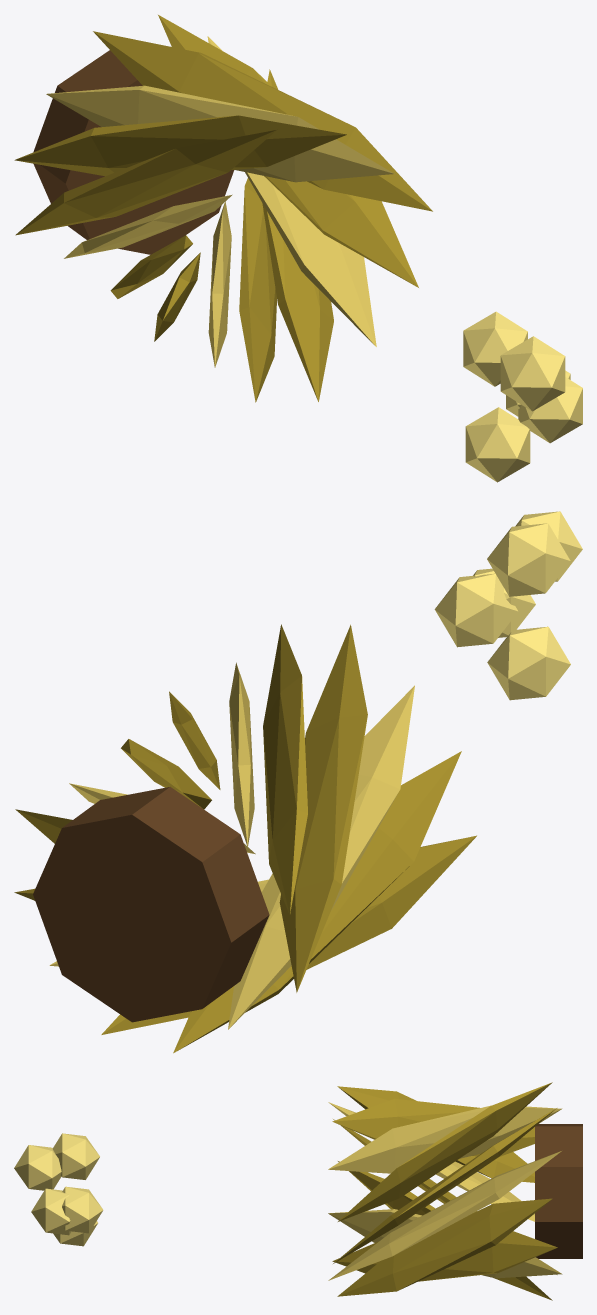
The model's file is 4_mature.obj.
The picture shows the model from 3 angles, top to bottom: view 1: azimuth 30°, elevation 25°; view 2: azimuth 150°, elevation 25°; view 3: azimuth 270°, elevation 25°; orthographic projection. The views are drawn at different scales.
Parts seen in each view (by area): view 1: harralander_4_mature; view 2: harralander_4_mature; view 3: harralander_4_mature.
Part boxes in pixels (left/top/right/bottom): harralander_4_mature: left=14, top=15, right=582, bottom=482; harralander_4_mature: left=14, top=511, right=582, bottom=1053; harralander_4_mature: left=14, top=1082, right=582, bottom=1300.
Bounding box in the file's own units: 0.1808 × 0.1808 × 0.4745.
